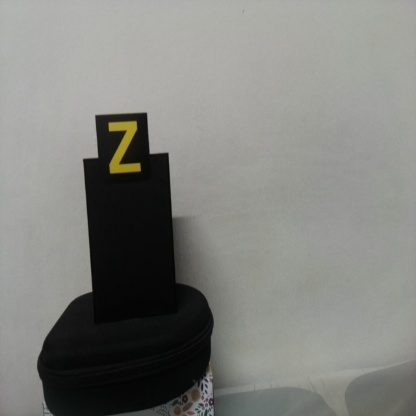id_15: (95, 114, 149, 181)
